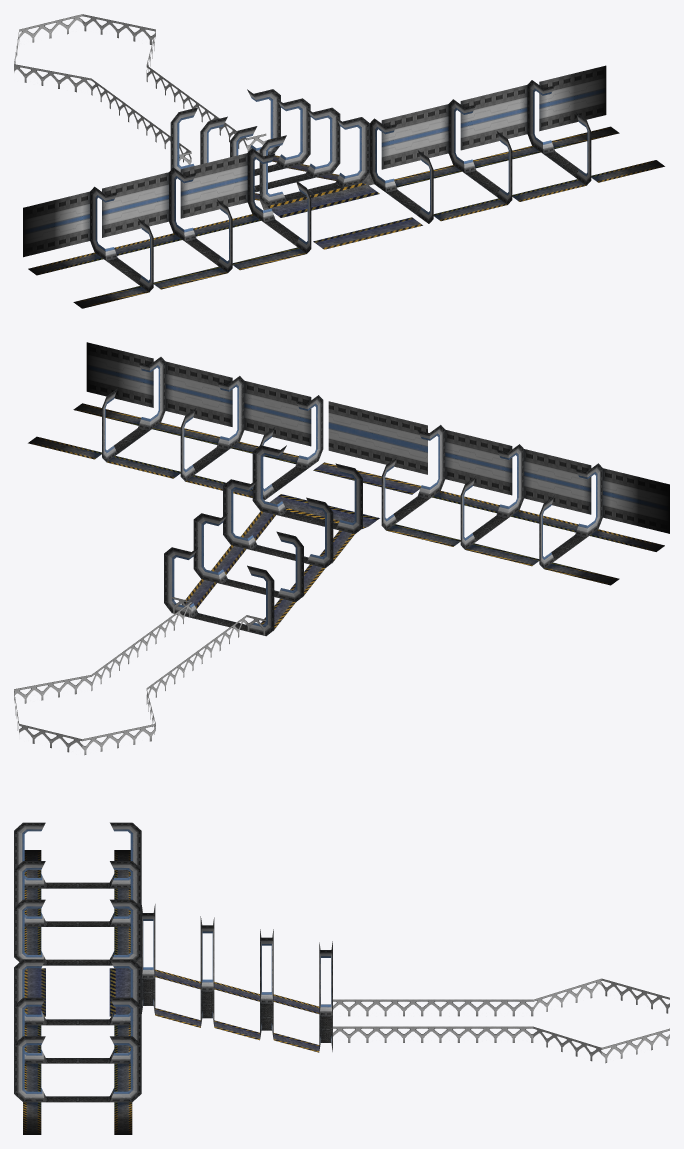
3 views of the same model, one above another, from view 1: azimuth 30°, elevation 25°; view 2: azimuth 150°, elevation 25°; view 3: azimuth 270°, elevation 25° (orthographic).
Visible parts, largest first — view 1: 2_RW_RoomLongArch, 1_-W_RoomLong_L.001, 1_-W_RoomLong_R.001, 3_RW_RoomDownArc, 0_-W_RoomLong_R, 0_-W_RoomLong_L, 5_RW_PlatformBottom, 0_-W_RoomMiddle; view 2: 2_RW_RoomLongArch, 3_RW_RoomDownArc, 1_-W_RoomLong_L.001, 1_-W_RoomLong_R.001, 0_-W_RoomMiddle, 0_-W_RoomLong_L, 0_-W_RoomLong_R, 5_RW_PlatformBottom, 3_RW_RoomDown; view 3: 2_RW_RoomLongArch, 5_RW_PlatformBottom, 3_RW_RoomDownArc, 3_RW_RoomDown, 1_-W_RoomLong_R.001, 0_-W_RoomMiddle, 1_-W_RoomLong_L.001, 0_-W_RoomLong_L, 0_-W_RoomLong_R.
Part boxes in pixels (x1,y1,x2,y2): 2_RW_RoomLongArch: (90,80,591,292); 1_-W_RoomLong_L.001: (23,172,227,308); 1_-W_RoomLong_R.001: (460,65,664,201); 3_RW_RoomDownArc: (170,89,369,205); 0_-W_RoomLong_R: (381,104,507,221); 0_-W_RoomLong_L: (180,153,306,270); 5_RW_PlatformBottom: (14,14,266,164); 0_-W_RoomMiddle: (260,173,422,249); 2_RW_RoomLongArch: (102,357,602,568); 3_RW_RoomDownArc: (164,445,362,636); 1_-W_RoomLong_L.001: (465,449,669,585); 1_-W_RoomLong_R.001: (28,342,232,478); 0_-W_RoomMiddle: (265,401,427,528); 0_-W_RoomLong_L: (386,429,512,546); 0_-W_RoomLong_R: (185,380,311,497); 5_RW_PlatformBottom: (14,597,266,755); 3_RW_RoomDown: (181,511,354,630); 2_RW_RoomLongArch: (14,822,141,1102); 5_RW_PlatformBottom: (333,978,669,1063); 3_RW_RoomDownArc: (141,904,332,1051); 3_RW_RoomDown: (155,969,319,1052); 1_-W_RoomLong_R.001: (23,1063,132,1134); 0_-W_RoomMiddle: (24,957,141,1016); 1_-W_RoomLong_L.001: (24,850,130,916); 0_-W_RoomLong_L: (24,927,130,954); 0_-W_RoomLong_R: (24,1025,130,1052).
Size of what is drawn, in the model's own units: 148 by 25 by 144.
6 materials, 6 textured.
